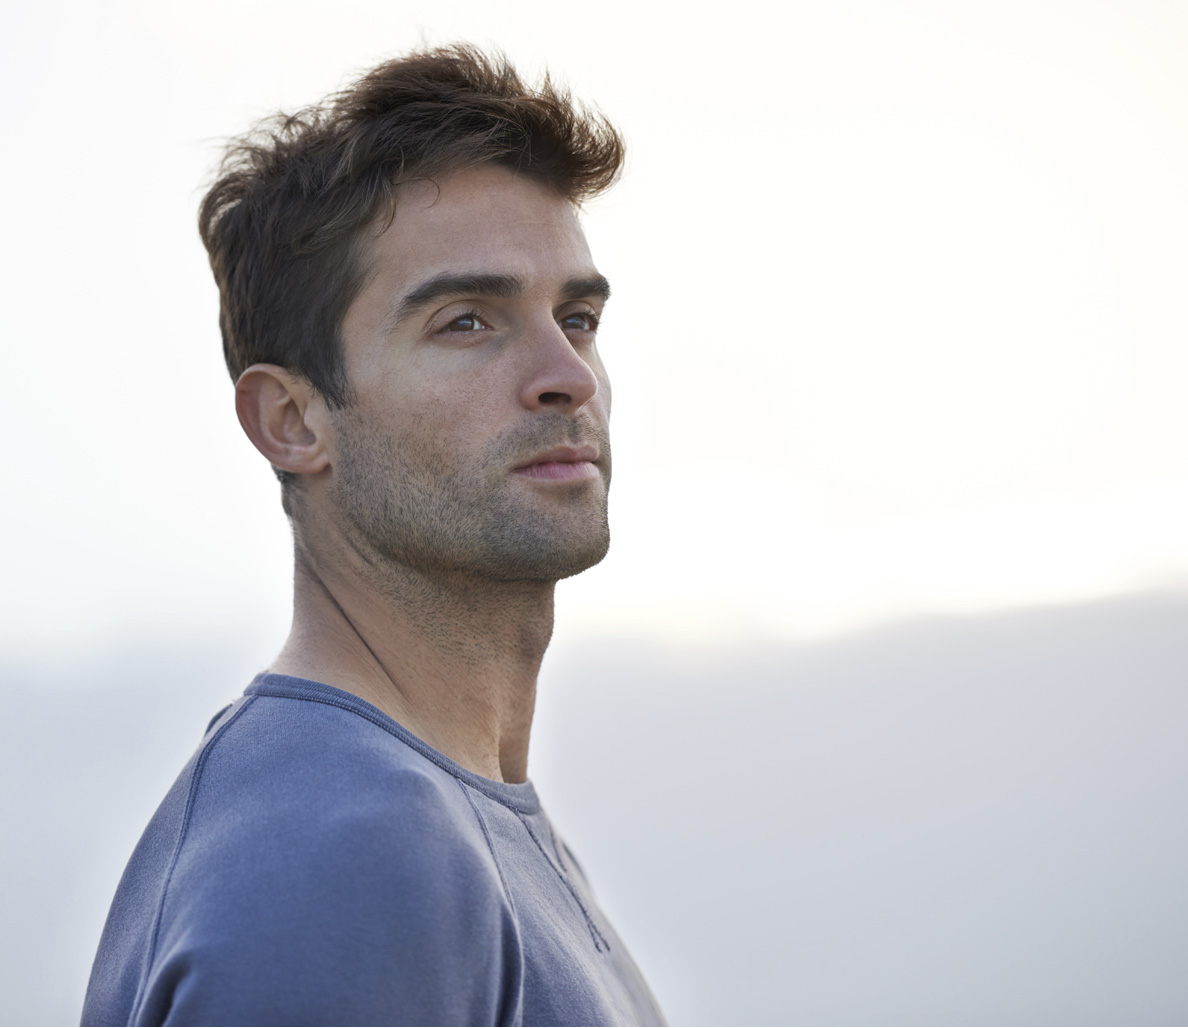Without Helmet: (158, 28, 650, 649)
